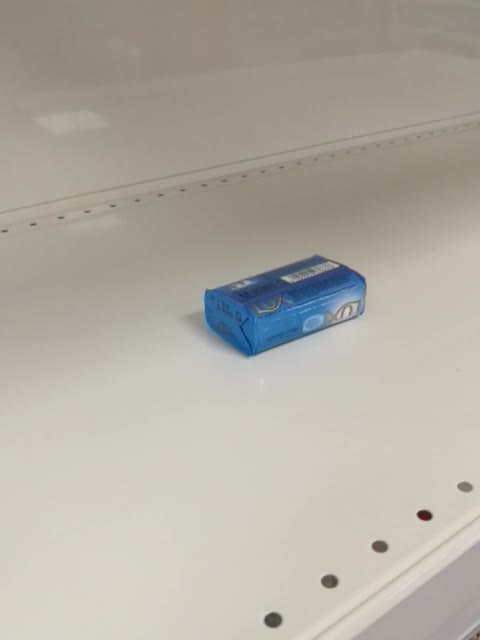soap: (202, 252, 370, 359)
